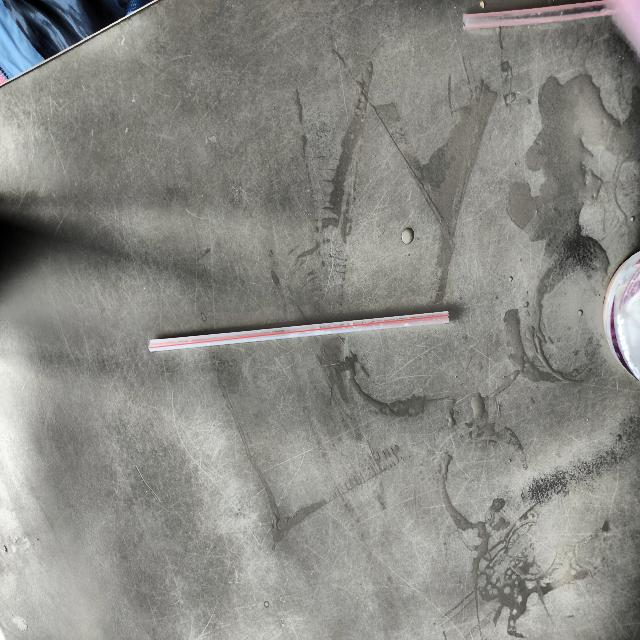plastic straw: (149, 312, 449, 352)
